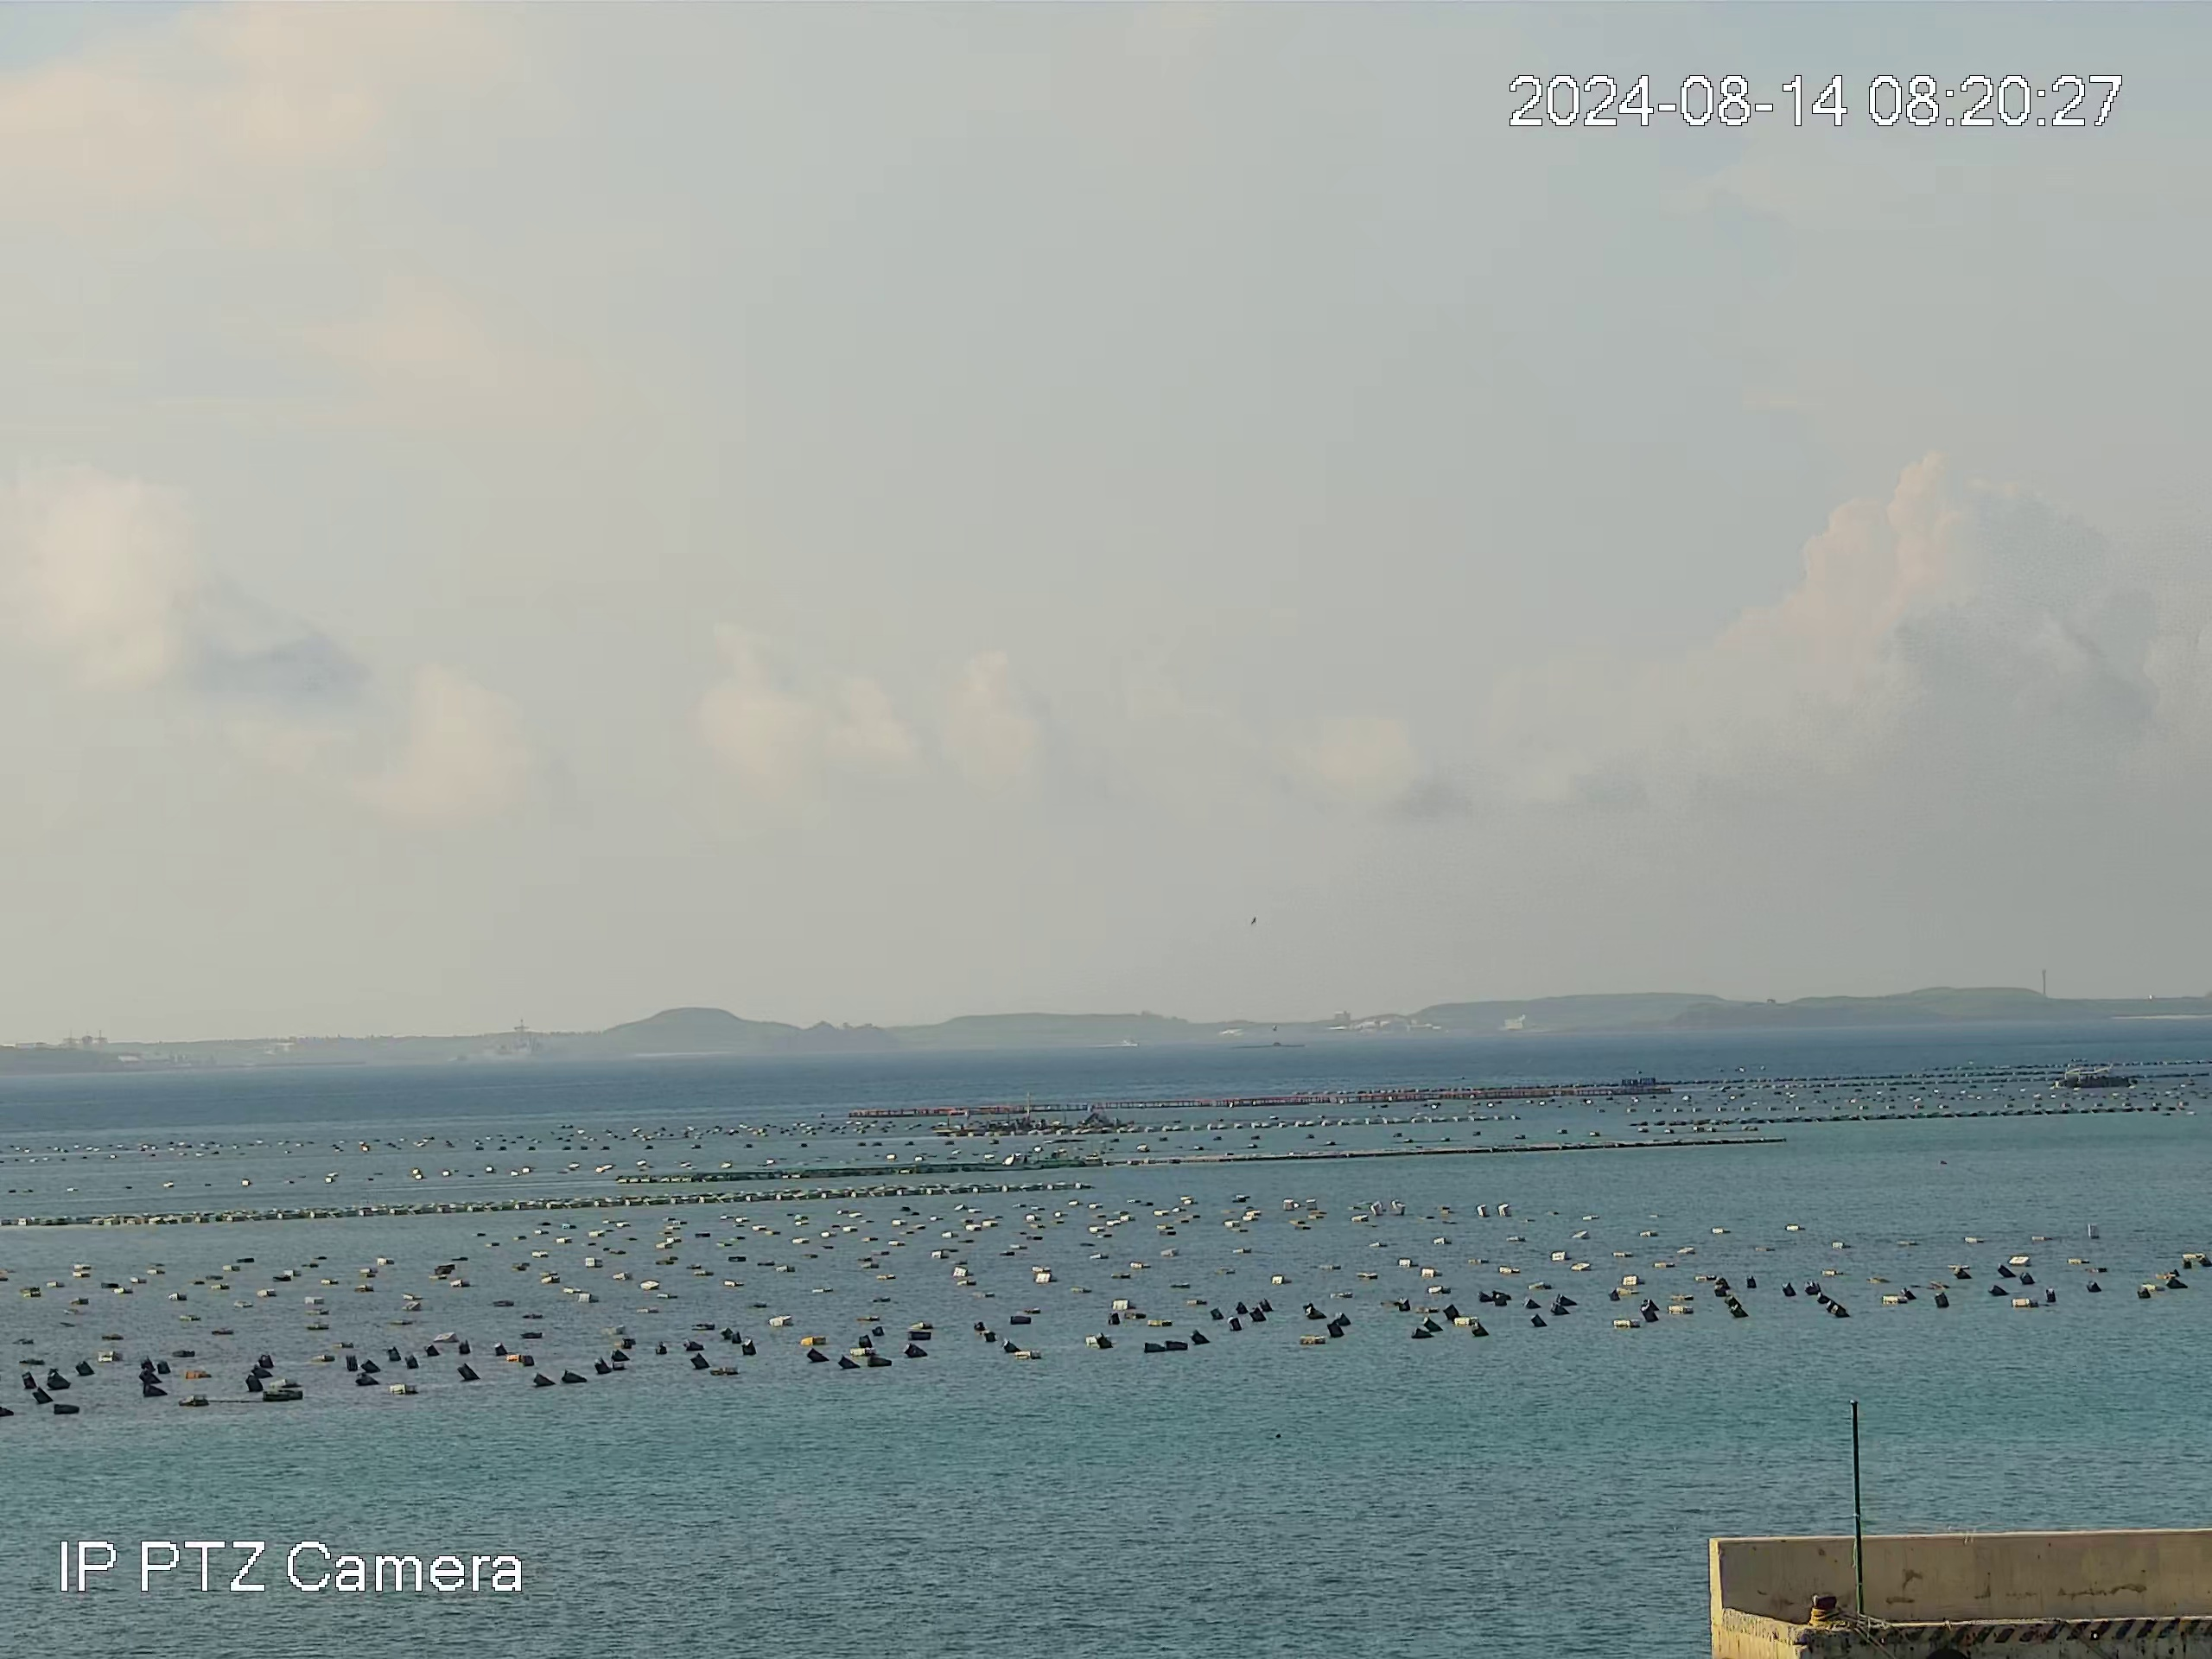boat: (2054, 1063, 2134, 1087)
